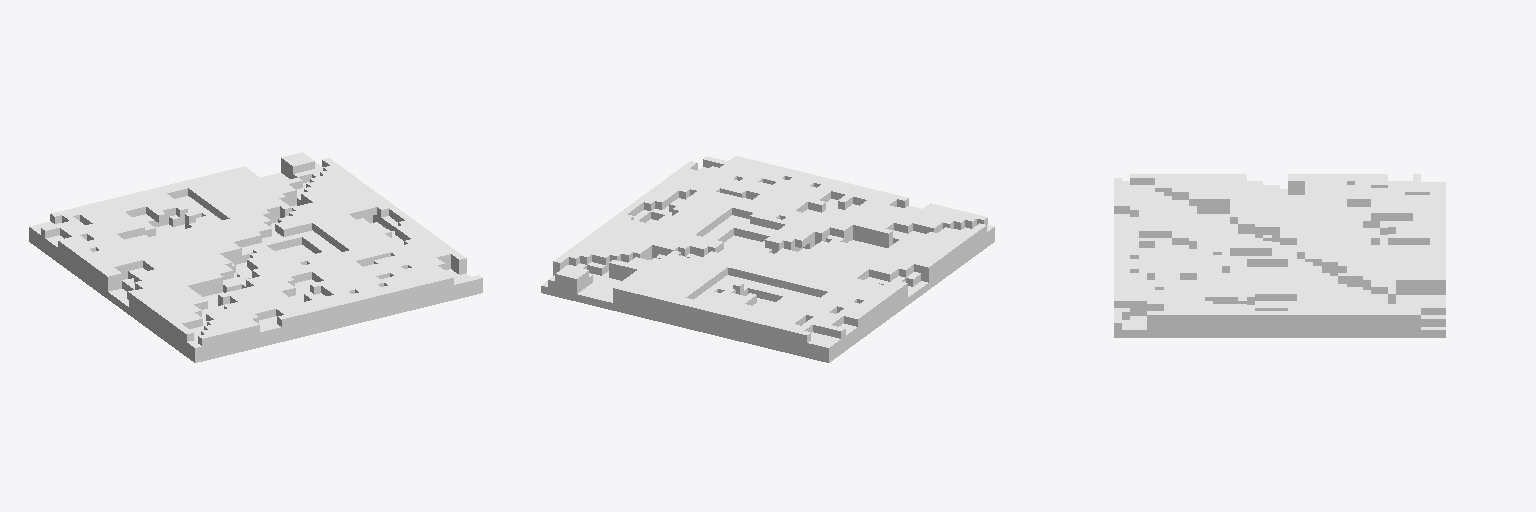
File: NoMansLand.obj
3 views of the same model, side by side, from view 1: azimuth 30°, elevation 25°; view 2: azimuth 150°, elevation 25°; view 3: azimuth 270°, elevation 25° (orthographic).
Parts seen in each view (by area): view 1: object 1; view 2: object 1; view 3: object 1.
Boxes of the visible parts, box(x1,y1,x2,y2) form: object 1: box(29, 152, 482, 362); object 1: box(541, 156, 994, 362); object 1: box(1114, 174, 1445, 337).
Bounding box in the file's own units: 4 × 0.3 × 4.